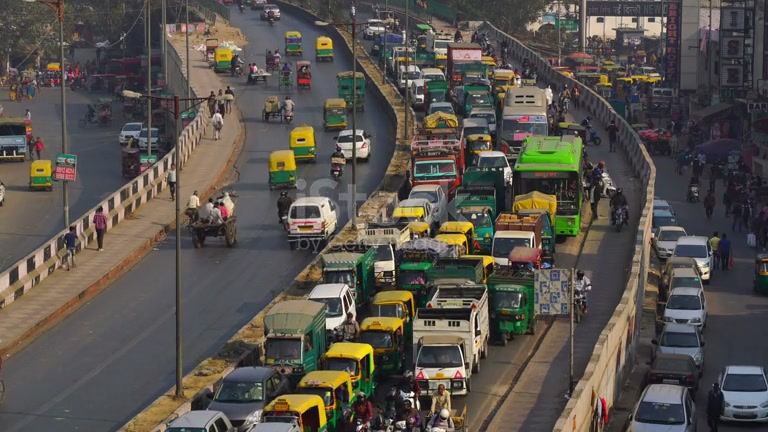bus: (512, 134, 582, 237), (413, 280, 490, 372), (260, 298, 329, 375), (491, 210, 555, 270), (487, 266, 537, 341), (499, 85, 549, 154), (468, 150, 513, 211), (410, 151, 461, 197), (446, 43, 485, 93)
car: (206, 365, 290, 422), (706, 365, 768, 429), (412, 333, 472, 398), (628, 382, 698, 432), (248, 392, 331, 431), (653, 323, 706, 375), (282, 196, 339, 241), (662, 280, 708, 332), (647, 352, 702, 393), (671, 235, 713, 283), (160, 409, 237, 432), (267, 149, 298, 191), (651, 225, 687, 261), (335, 128, 372, 162), (0, 120, 28, 162), (118, 122, 145, 147), (264, 5, 281, 24)
pedestrian: (63, 224, 80, 270), (93, 206, 108, 250), (719, 232, 731, 270), (704, 189, 716, 220), (211, 111, 223, 140), (187, 190, 201, 213)
truck: (284, 29, 304, 55)
